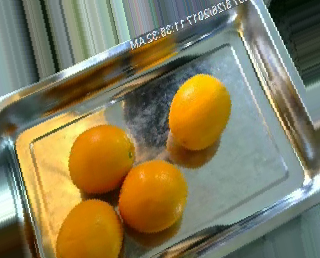Orange: (117, 159, 186, 234), (169, 73, 232, 150), (68, 123, 136, 192), (55, 199, 122, 258)
